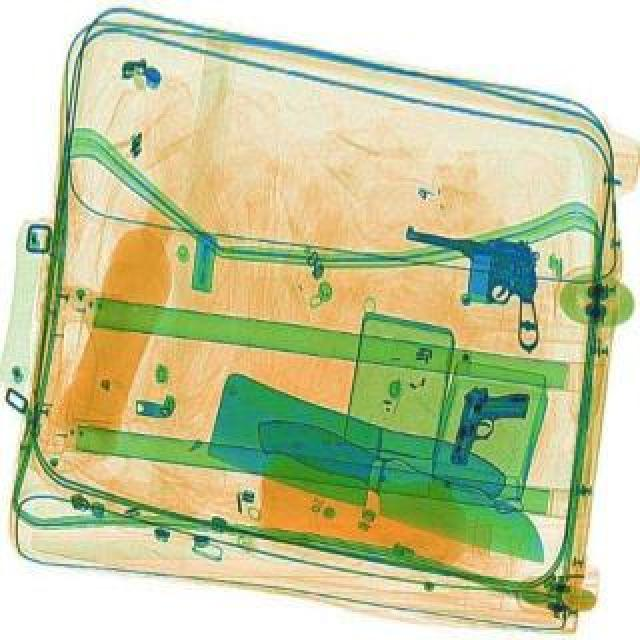gun: (382, 214, 560, 348), (448, 372, 532, 476)
knife: (234, 396, 562, 580), (194, 368, 510, 550)
